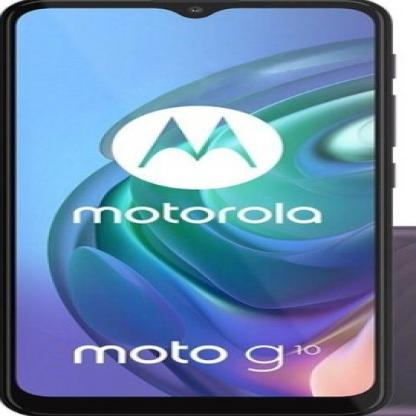SMARTPHONE: (0, 1, 392, 416)
